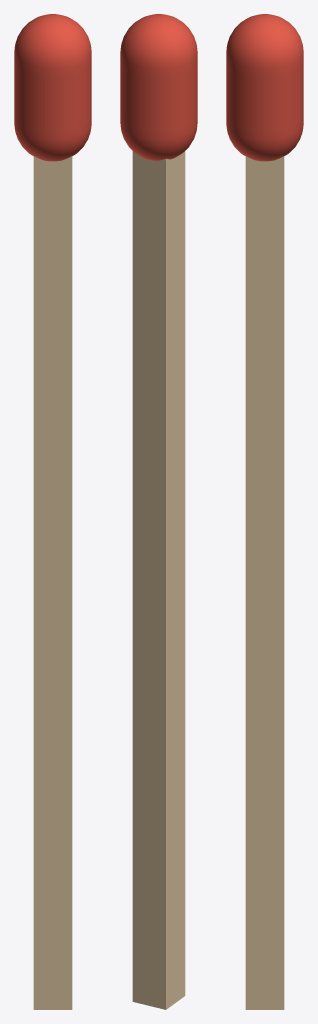
The picture shows the model from 3 angles, left to right: view 1: azimuth 90°, elevation 25°; view 2: azimuth 150°, elevation 25°; view 3: azimuth 270°, elevation 25°; orthographic projection.
Visible parts, largest first — view 1: 胶囊_1; view 2: 胶囊_1; view 3: 胶囊_1.
Part boxes in pixels (bbox=[...]): 胶囊_1: bbox=[14, 14, 91, 1009]; 胶囊_1: bbox=[120, 14, 197, 1009]; 胶囊_1: bbox=[226, 14, 303, 1009].
Size of the model in its own units: 24 by 336 by 24.
